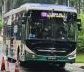bus: (40, 11, 47, 17)
